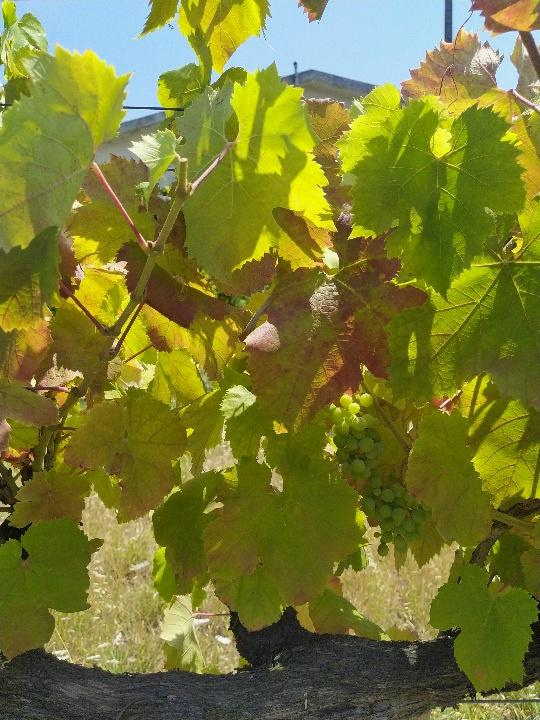grape: (327, 388, 430, 561)
